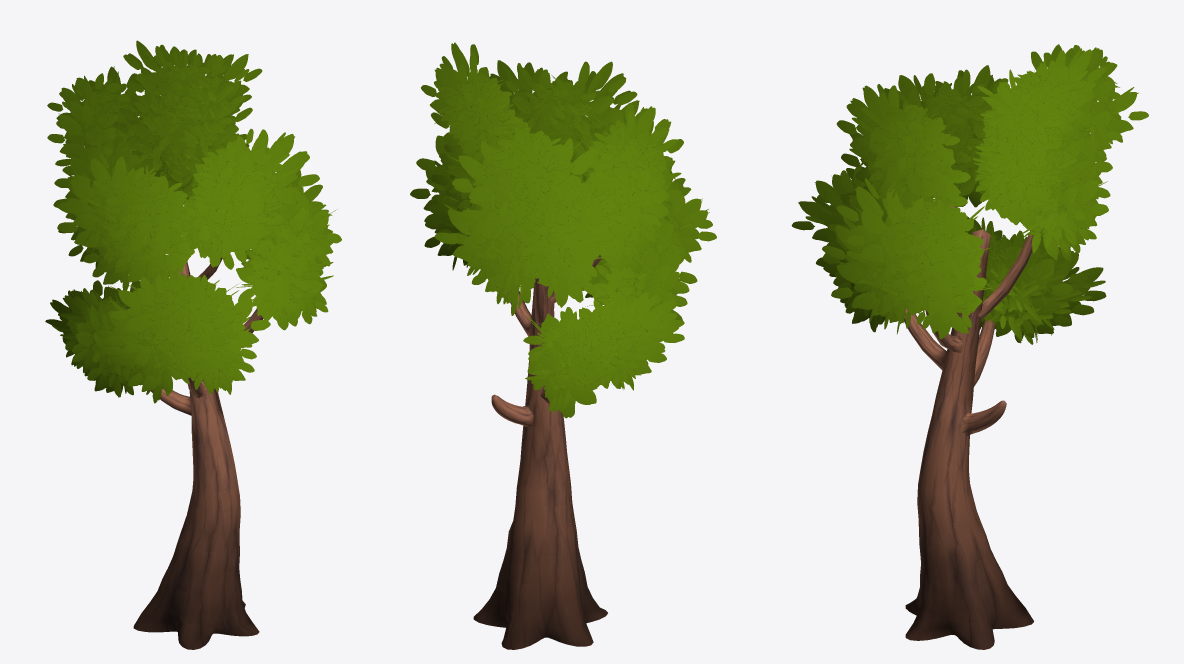
File: commontree_5.glb
3 renders of one model, left to right at view 1: azimuth 30°, elevation 25°; view 2: azimuth 150°, elevation 25°; view 3: azimuth 270°, elevation 25°, orthographic. The views are drawn at different scales.
Visible parts, largest first — view 1: CommonTree_5; view 2: CommonTree_5; view 3: CommonTree_5.
Boxes of the visible parts, x1=… form: CommonTree_5: x1=45, y1=40, x2=341, y2=649; CommonTree_5: x1=410, y1=42, x2=716, y2=649; CommonTree_5: x1=791, y1=44, x2=1148, y2=649.
Bounding box in the file's own units: 3.67 × 7.01 × 4.22.
2 materials, 2 textured.
